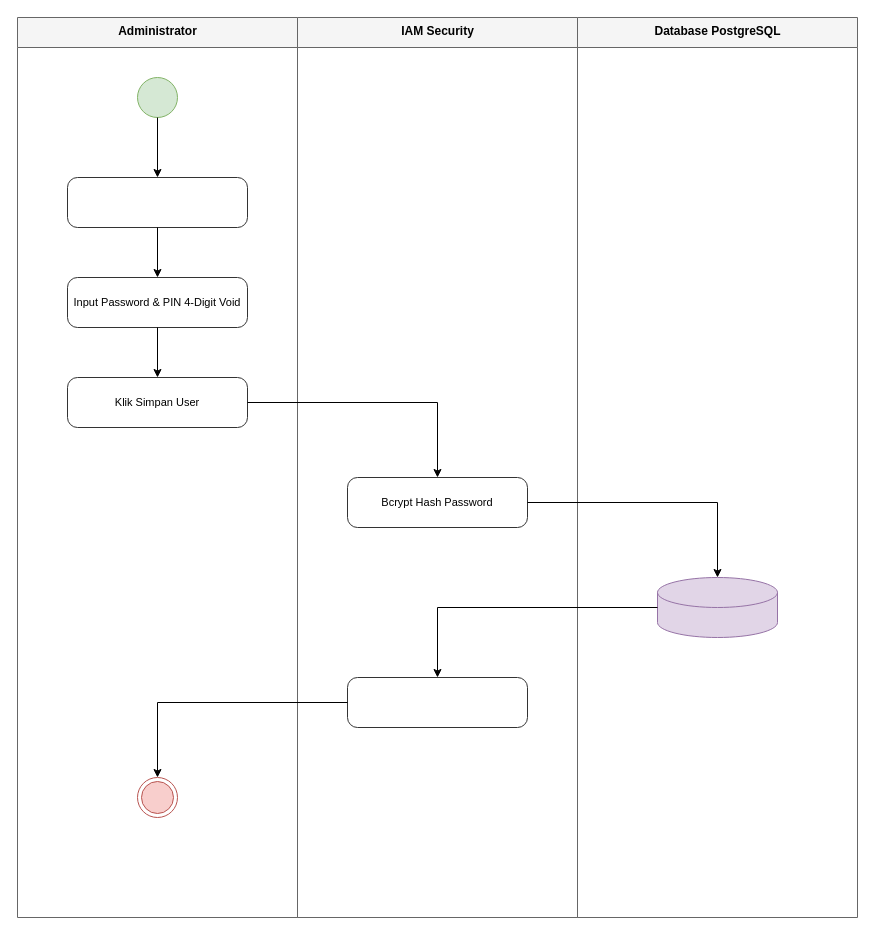
Image size: 875x935. Some labels were removed from this diagram. Here are the shapes that lost their labels. From the top down, the centre of each, then its label:
(157,202): Input Username, Nama, & Role
(717,607): Prisma: Simpan User dengan PIN
(437,702): Notifikasi User Dibuat
